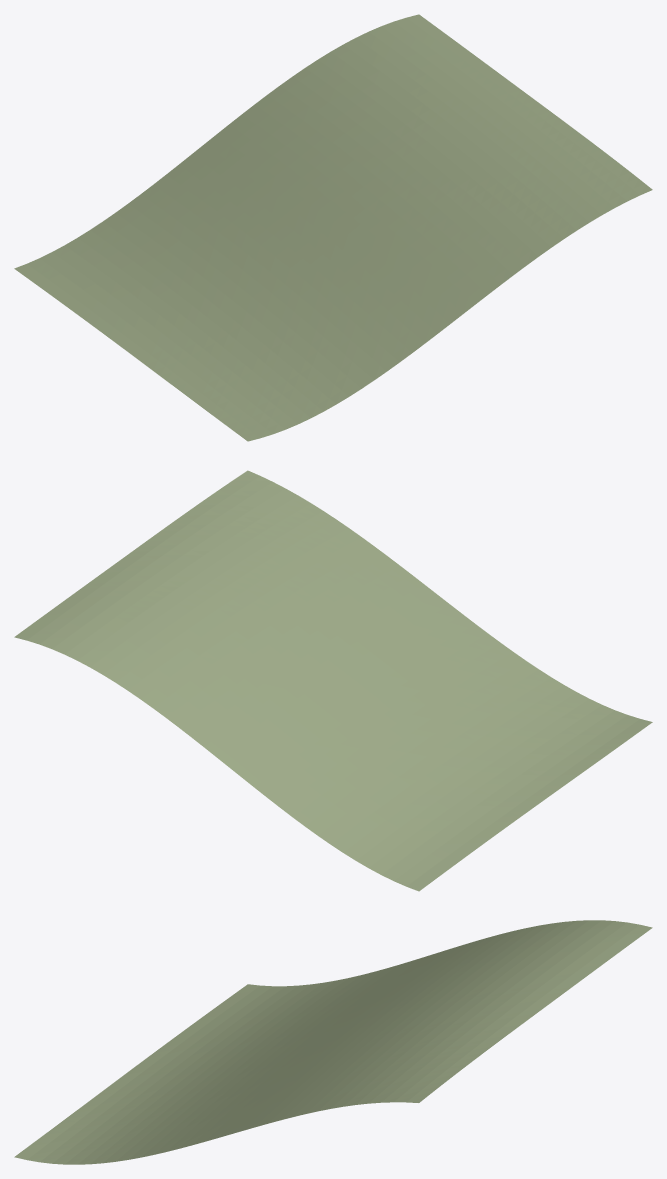
The model's file is desert-18-18.glb.
3 views of the same model, one above another, from view 1: azimuth 30°, elevation 25°; view 2: azimuth 150°, elevation 25°; view 3: azimuth 330°, elevation 25° (orthographic).
Visible parts, largest first — view 1: desert-18-18; view 2: desert-18-18; view 3: desert-18-18.
Part boxes in pixels (x1,y1,x2,y2): desert-18-18: (14, 14, 652, 441); desert-18-18: (14, 470, 652, 891); desert-18-18: (14, 920, 652, 1164).
Size of the model in its own units: 512 by 190 by 512.
